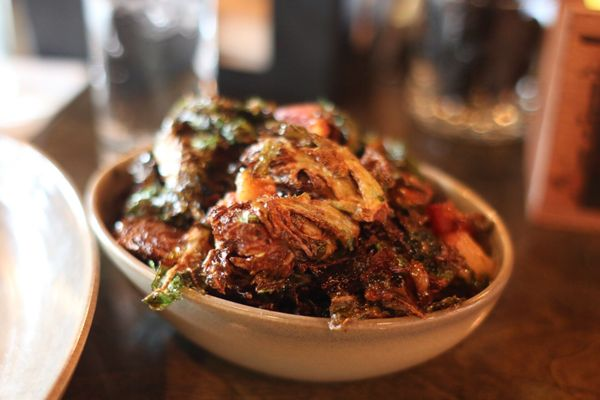sushi: (0, 131, 101, 394)
